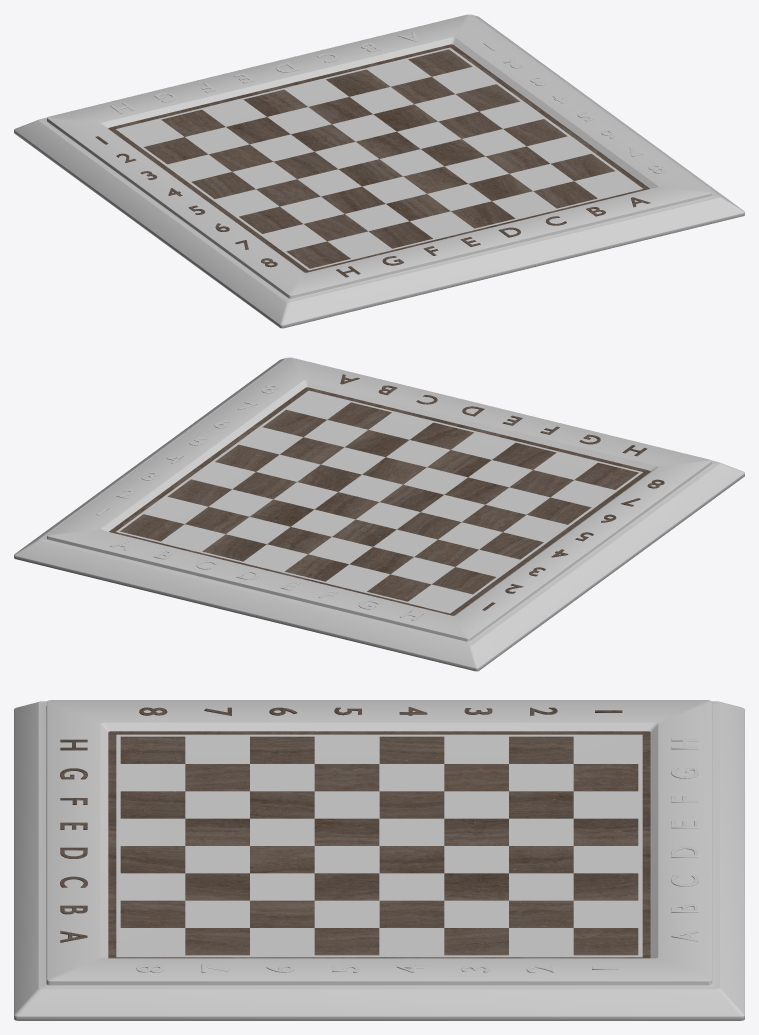
The model's file is Ajedrez.Tablero.2.0.fbx.
3 renders of one model, top to bottom at view 1: azimuth 30°, elevation 25°; view 2: azimuth 150°, elevation 25°; view 3: azimuth 270°, elevation 25°, orthographic. The views are drawn at different scales.
Parts seen in each view (by area): view 1: A.Tablero.2.0, A_T_Tablero_Letras_Oscuras.Mesh, A_T_Tablero_Letras_Claras.Mesh, A_T_Tablero_Numeros_Claros.Mesh, A_T_Tablero_Numeros_Oscuros.Mesh; view 2: A.Tablero.2.0, A_T_Tablero_Letras_Claras.Mesh, A_T_Tablero_Letras_Oscuras.Mesh, A_T_Tablero_Numeros_Claros.Mesh, A_T_Tablero_Numeros_Oscuros.Mesh; view 3: A.Tablero.2.0, A_T_Tablero_Letras_Oscuras.Mesh, A_T_Tablero_Letras_Claras.Mesh, A_T_Tablero_Numeros_Claros.Mesh, A_T_Tablero_Numeros_Oscuros.Mesh.
Boxes of the visible parts, left/top/right/bottom form: A.Tablero.2.0: left=14, top=14, right=744, bottom=328; A_T_Tablero_Letras_Oscuras.Mesh: left=336, top=197, right=650, bottom=277; A_T_Tablero_Letras_Claras.Mesh: left=110, top=31, right=417, bottom=113; A_T_Tablero_Numeros_Claros.Mesh: left=483, top=42, right=665, bottom=173; A_T_Tablero_Numeros_Oscuros.Mesh: left=95, top=136, right=277, bottom=267; A.Tablero.2.0: left=14, top=357, right=744, bottom=671; A_T_Tablero_Letras_Claras.Mesh: left=109, top=540, right=424, bottom=620; A_T_Tablero_Letras_Oscuras.Mesh: left=340, top=374, right=647, bottom=456; A_T_Tablero_Numeros_Claros.Mesh: left=96, top=384, right=278, bottom=515; A_T_Tablero_Numeros_Oscuros.Mesh: left=482, top=479, right=664, bottom=610; A.Tablero.2.0: left=14, top=700, right=744, bottom=1020; A_T_Tablero_Letras_Oscuras.Mesh: left=60, top=739, right=87, bottom=942; A_T_Tablero_Letras_Claras.Mesh: left=671, top=738, right=698, bottom=941; A_T_Tablero_Numeros_Claros.Mesh: left=136, top=964, right=619, bottom=972; A_T_Tablero_Numeros_Oscuros.Mesh: left=139, top=707, right=622, bottom=715.
Bounding box in the file's own units: 0.565 × 0.565 × 0.023.
